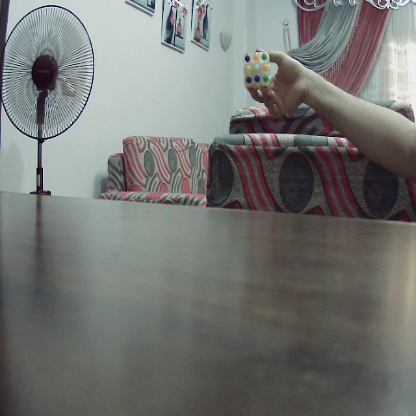Rubix Cube: (244, 51, 270, 85)
